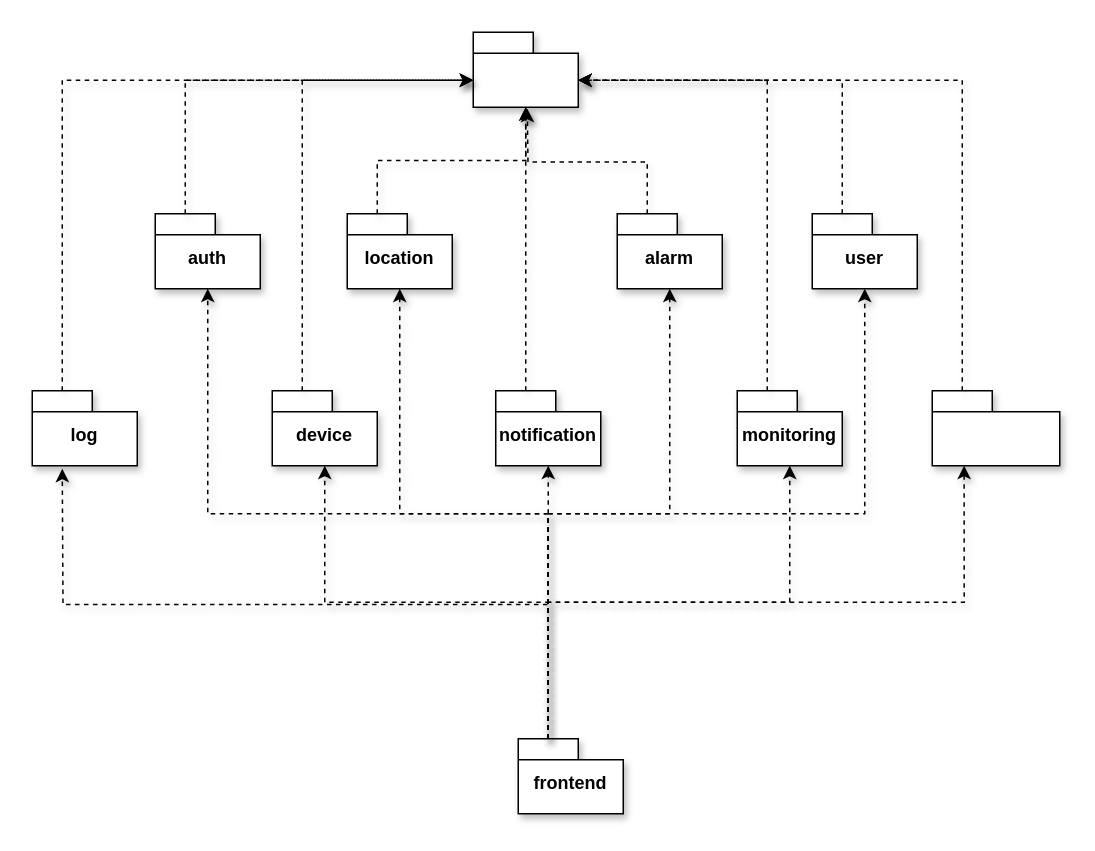
The diagram is 1095 pixels wide and 851 high, and some of its shapes have lost their labels. Each missing label, with the centre of its shape:
common: the point at 526,71
recognition: the point at 997,429
